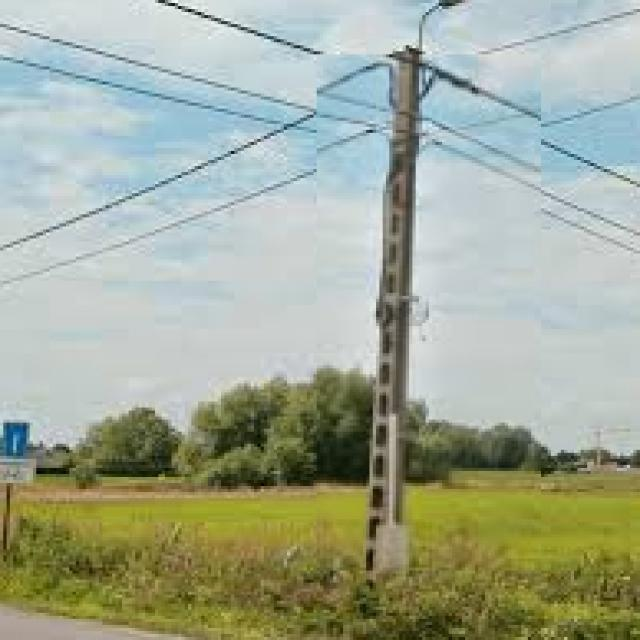light_pole: (318, 56, 544, 574)
